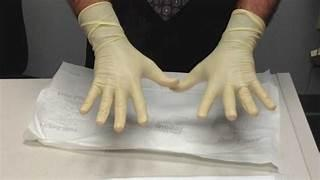Glove: (78, 2, 177, 131), (172, 9, 275, 119)
